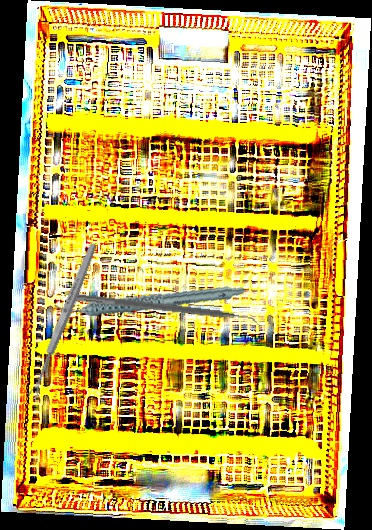Handpiece: (53, 263, 246, 335)
Spatula Surgical: (72, 293, 262, 329)
Surgical Spoon: (26, 241, 99, 401)
